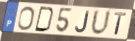5: (55, 6, 74, 35)
D: (33, 6, 56, 33)
J: (75, 11, 91, 34)
O: (17, 6, 36, 31)
T: (114, 12, 128, 37)
U: (90, 9, 112, 37)
